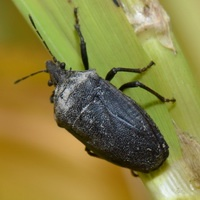insect: (15, 9, 168, 171)
